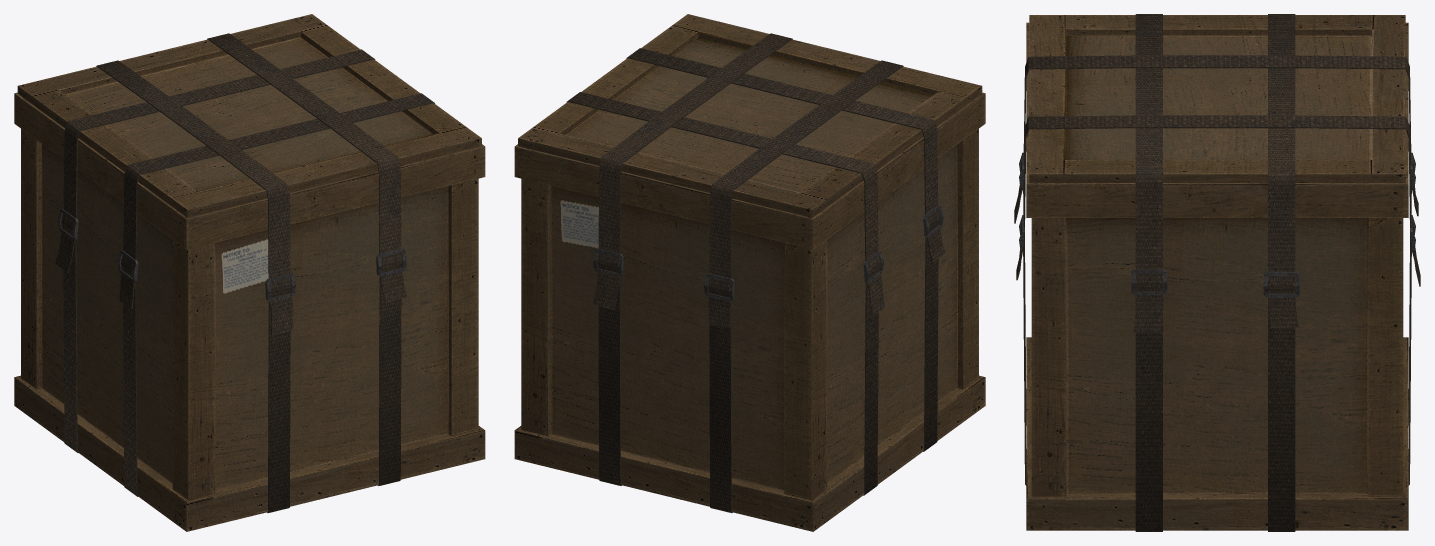
The model's file is wooden_crate_hx_5_1.glb.
3 renders of one model, left to right at view 1: azimuth 30°, elevation 25°; view 2: azimuth 150°, elevation 25°; view 3: azimuth 270°, elevation 25°, orthographic. The views are drawn at different scales.
Visible parts, largest first — view 1: wooden_crate_hx_5_1; view 2: wooden_crate_hx_5_1; view 3: wooden_crate_hx_5_1.
Part boxes in pixels (x1,y1,x2,y2): wooden_crate_hx_5_1: [14, 14, 485, 531]; wooden_crate_hx_5_1: [514, 14, 985, 531]; wooden_crate_hx_5_1: [1014, 14, 1420, 531].
Bounding box in the file's own units: 1.49 × 1.46 × 1.49.
3 materials, 3 textured.
